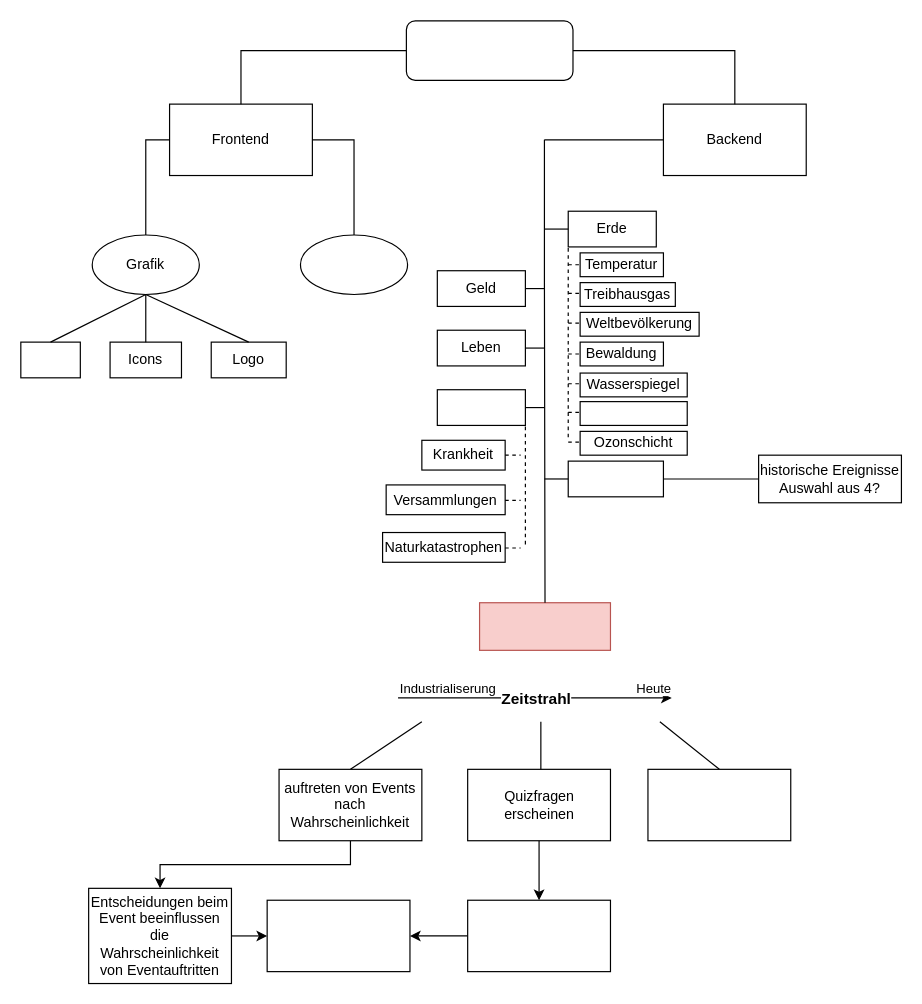
Image size: 922x1004. Some labels were removed from this diagram. The centre of each missing label's shape, as x and y in pixels:
"Erdulator" belongs at [489,50].
"Events" belongs at [480,407].
"Fragen" belongs at [615,478].
"Menü" belongs at [50,359].
"Musik" belongs at [353,264].
"Reaktion verbraucht Budget" belongs at [338,935].
"richtige Beantwortung erwirtschaftet Geld" belongs at [538,935].
"Spiellogik" belongs at [544,626].
"Tierartenvielfalt" belongs at [633,412].
"Verloren, wenn Grenzwerte überschritten" belongs at [719,804].
